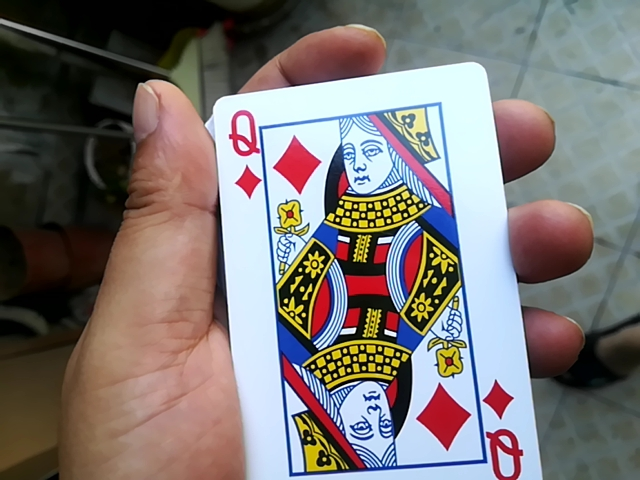fk q: (207, 59, 516, 476)
